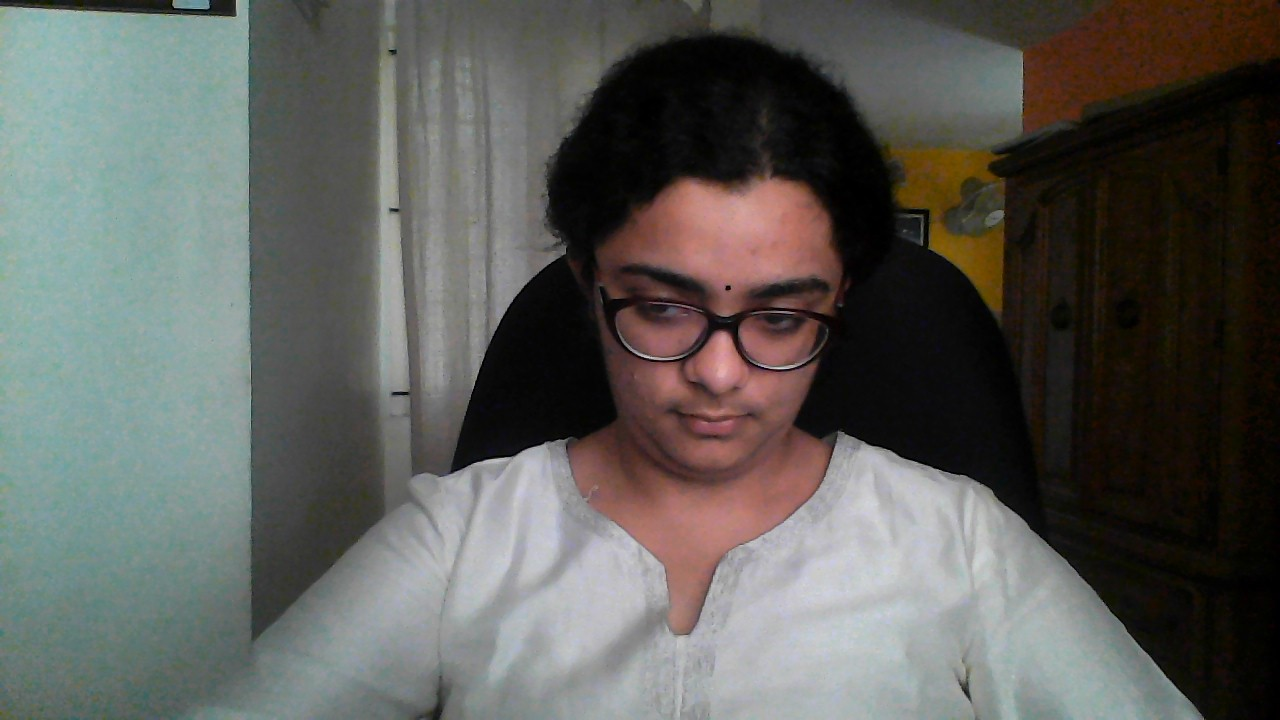person: (501, 56, 1036, 720)
